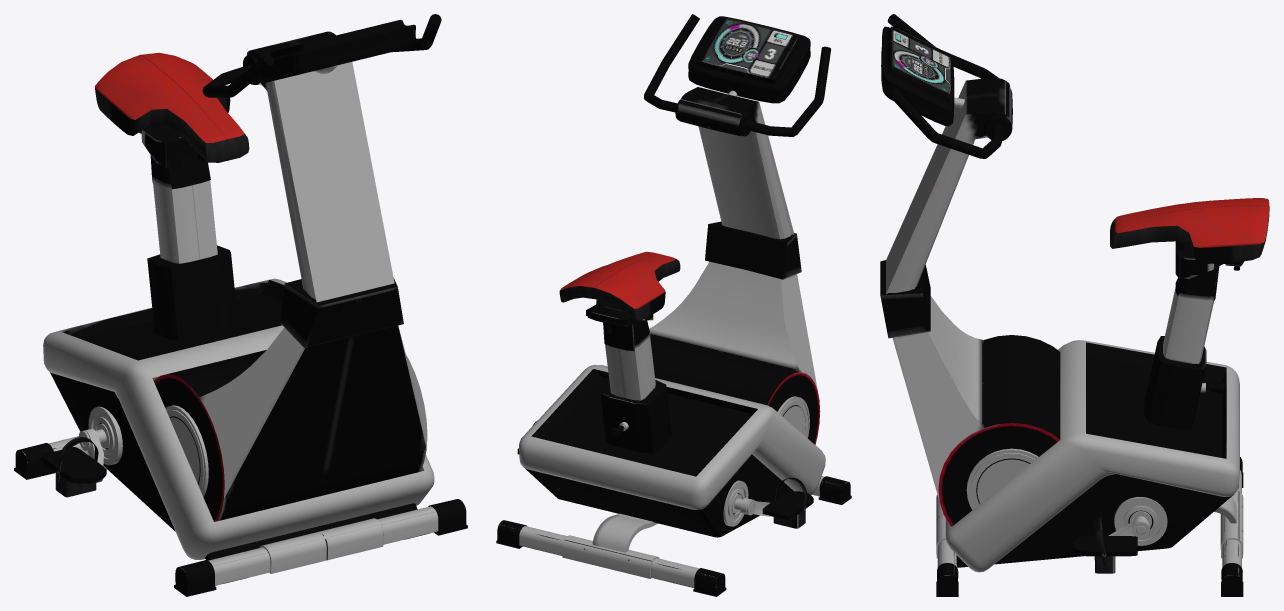
File: Bike.fbx
The picture shows the model from 3 angles, left to right: view 1: azimuth 30°, elevation 25°; view 2: azimuth 150°, elevation 25°; view 3: azimuth 270°, elevation 25°; orthographic projection. The views are drawn at different scales.
Visible parts, largest first — view 1: BikeFBX.010; view 2: BikeFBX.010; view 3: BikeFBX.010.
Boxes of the visible parts, x1,y1,x2,y2 form: BikeFBX.010: (14,14,467,596); BikeFBX.010: (496,14,851,596); BikeFBX.010: (880,14,1269,596).
Bounding box in the file's own units: 159 × 239 × 172.
